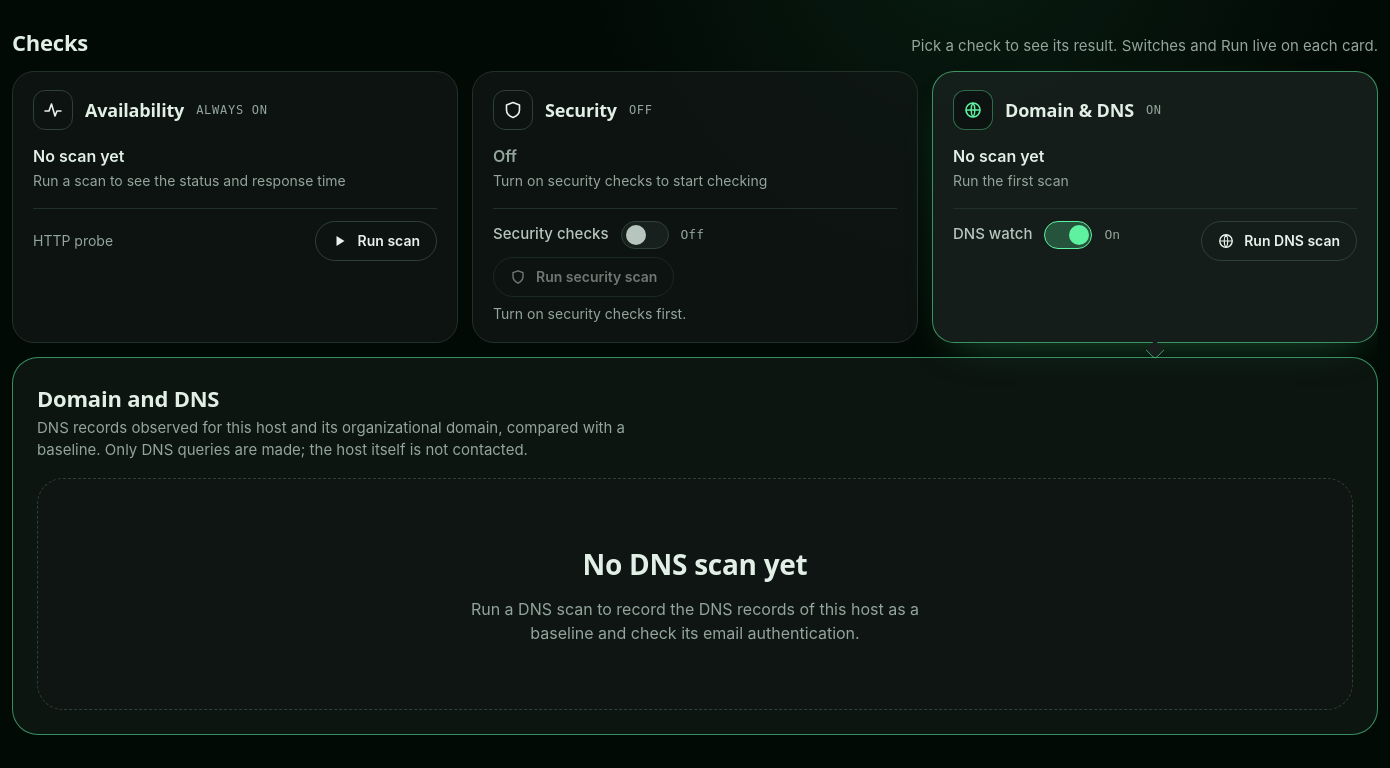
Test: Run DNS scan › shows the wait after a rate limit and keeps the button off
Click the button "Run DNS scan".
click(1279, 241)  # box [1201,221,1357,261]
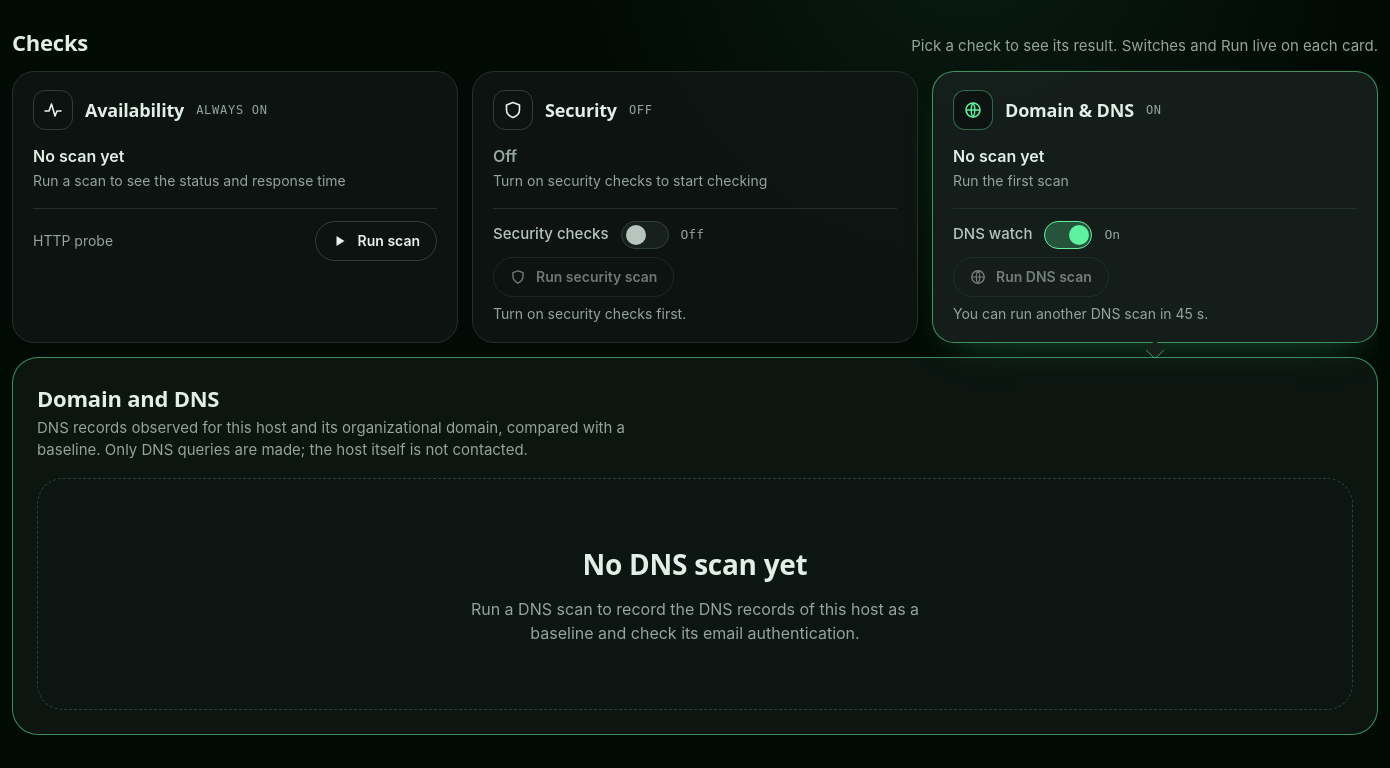
Check: the text "You can run another DNS scan in 45 s." is shown, box [953,303,1208,324]
Check: the button "Run DNS scan" is disabled, box [953,257,1109,297]
